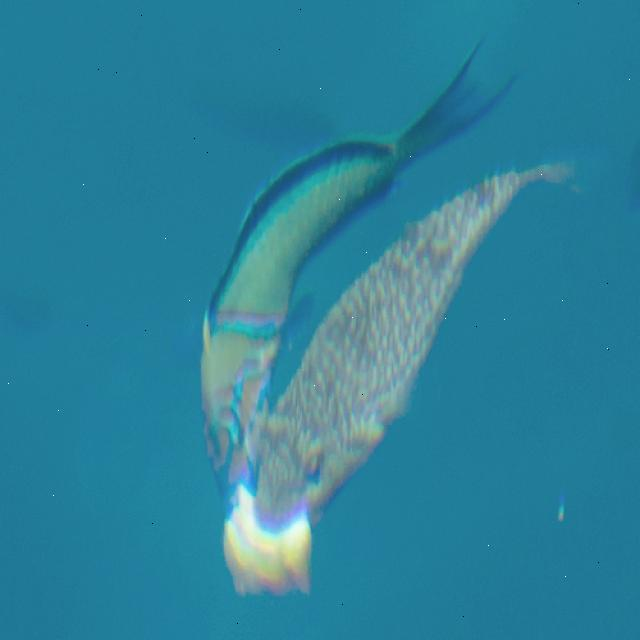Balik: (224, 166, 572, 591), (201, 47, 511, 499)
